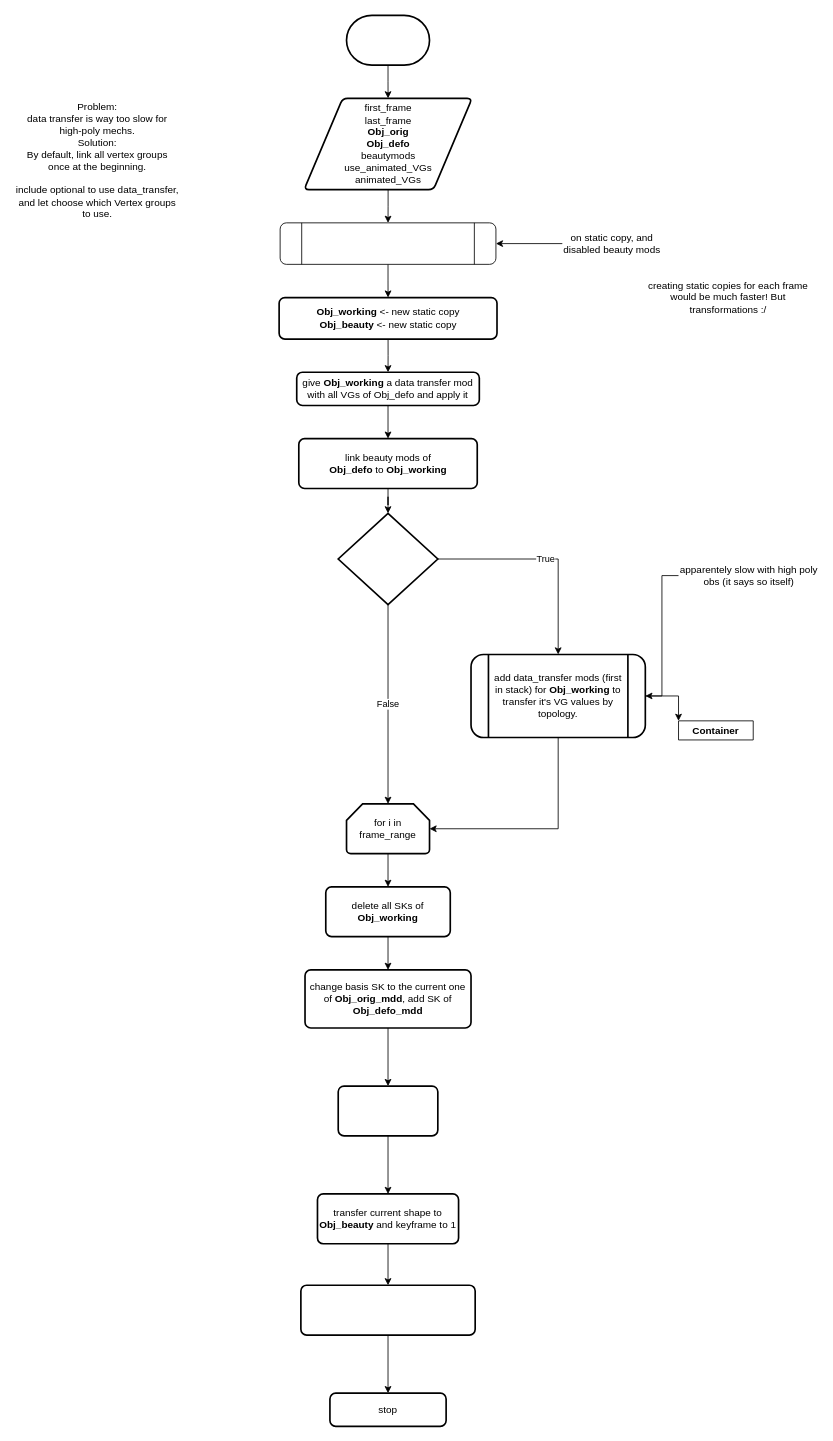
Some shapes in this 833 by 1441 pixel diagram are drawn without their labels. Here are the shapes that lost their labels. From the top down, the centre of each, then its label:
At point 387,40: "Start".
At point 387,243: "Obj_orig_mdd <- converted to mdd Obj_defo_mdd <- converted to mdd".
At point 387,558: "use_animated_VGs".
At point 387,1110: "rebind any binding modifiers".
At point 388,1309: "delete Obj_orig_mdd , Obj_defo_mdd , Obj_working".
